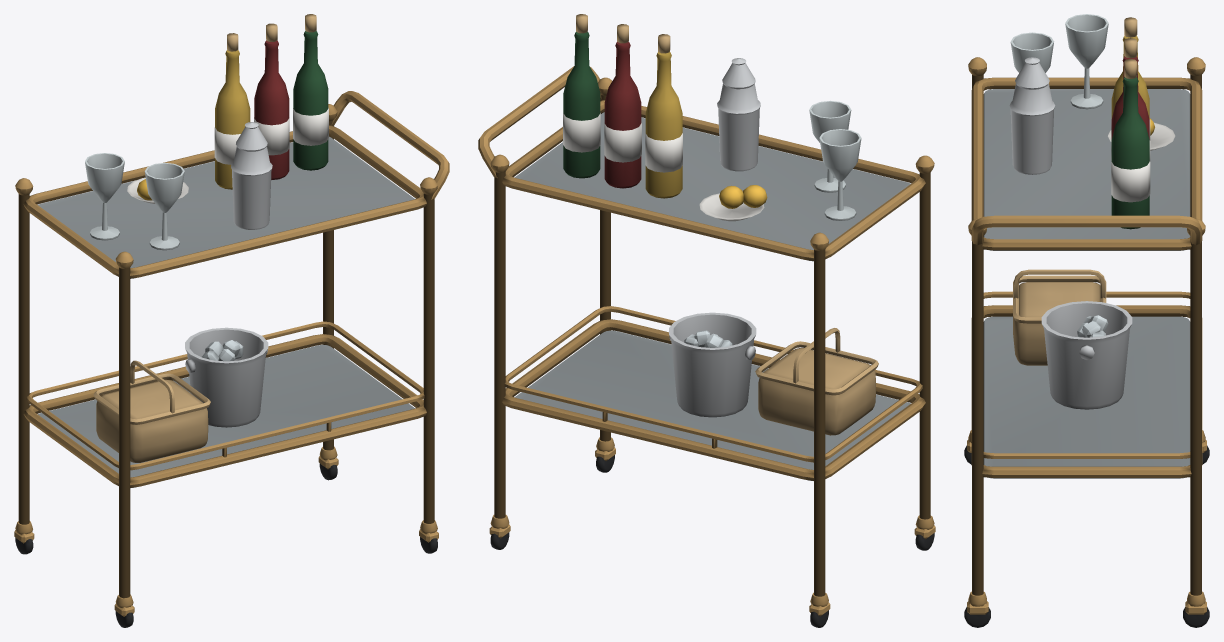
File: barCart.glb
The picture shows the model from 3 angles, left to right: view 1: azimuth 30°, elevation 25°; view 2: azimuth 150°, elevation 25°; view 3: azimuth 270°, elevation 25°; orthographic projection. The views are drawn at different scales.
Parts seen in each view (by area): view 1: cart, shaker; view 2: cart, shaker; view 3: cart, shaker.
Part boxes in pixels (left/top/right/bottom): cart: left=14, top=14, right=449, bottom=627; shaker: left=231, top=122, right=272, bottom=229; cart: left=478, top=14, right=935, bottom=627; shaker: left=717, top=58, right=760, bottom=171; cart: left=964, top=14, right=1209, bottom=627; shaker: left=1009, top=57, right=1055, bottom=174.
Bounding box in the file's own units: 0.7739 × 1.09 × 0.4487.
